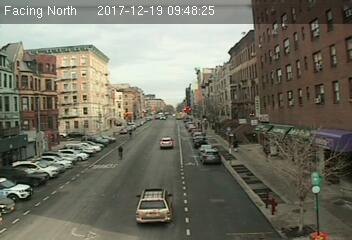bicycle: (117, 144, 123, 162)
car: (135, 188, 177, 224), (202, 149, 221, 166), (157, 136, 175, 151)
